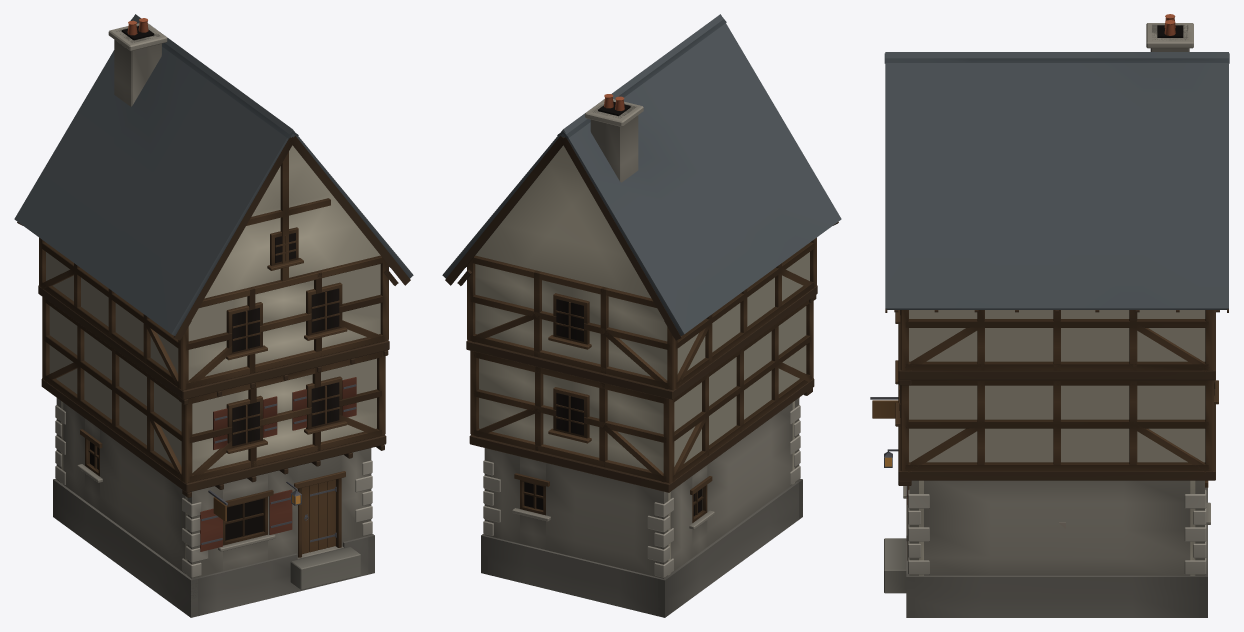
Rendered from townhouse.glb.
3 renders of one model, left to right at view 1: azimuth 30°, elevation 25°; view 2: azimuth 150°, elevation 25°; view 3: azimuth 270°, elevation 25°, orthographic. The views are drawn at different scales.
Parts seen in each view (by area): view 1: ext, door0; view 2: ext; view 3: ext, int.
Boxes of the visible parts, left/top/right/bottom form: ext: left=14, top=14, right=413, bottom=617; door0: left=302, top=479, right=336, bottom=554; ext: left=442, top=14, right=841, bottom=617; ext: left=870, top=14, right=1229, bottom=617; int: left=919, top=480, right=1195, bottom=575.
Bounding box in the file's own units: 7.03 × 13.63 × 8.27.
